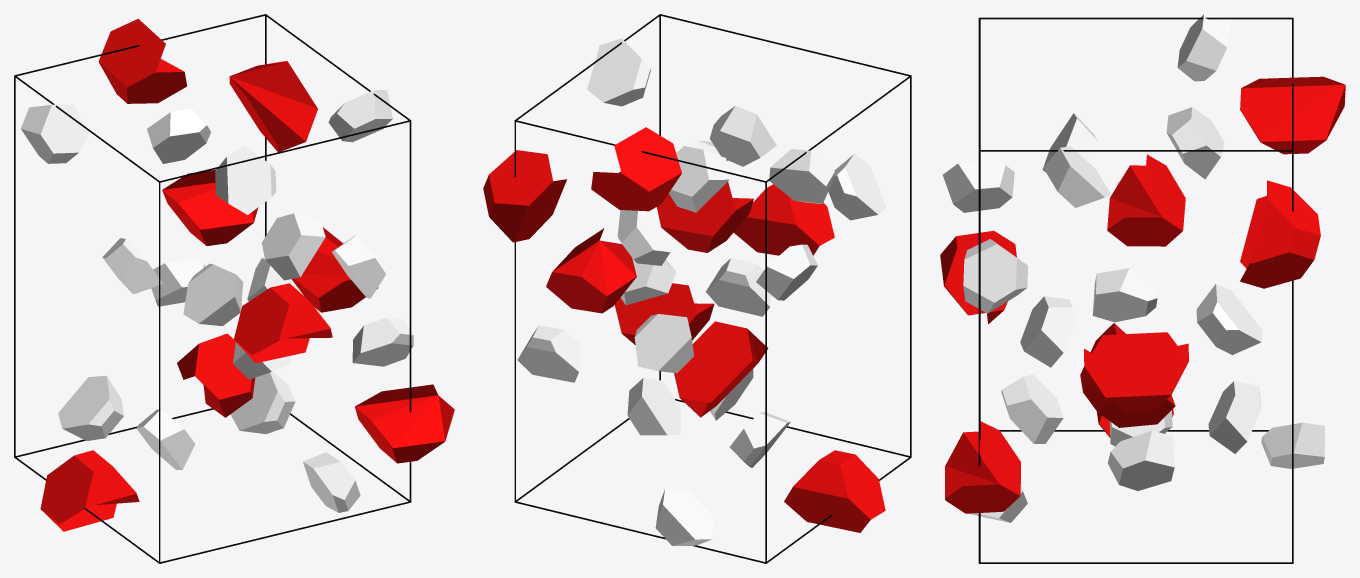
Rendered from 3Duc_pf0p6.glb.
3 views of the same model, side by side, from view 1: azimuth 30°, elevation 25°; view 2: azimuth 150°, elevation 25°; view 3: azimuth 270°, elevation 25° (orthographic). The views are drawn at different scales.
Size of the model in its own units: 6.31 by 7.57 by 6.26.
